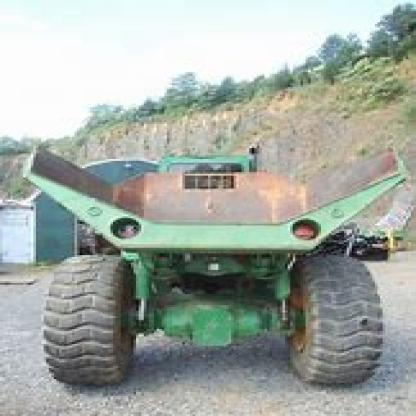dump_truck: (20, 137, 408, 388)
